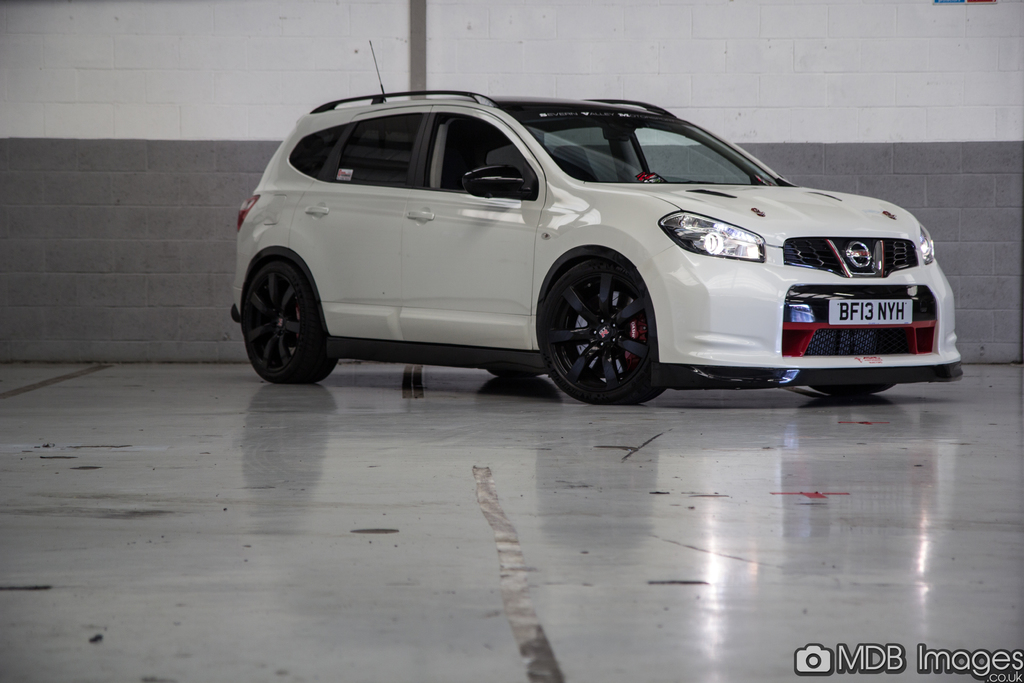Car: (215, 90, 942, 403)
